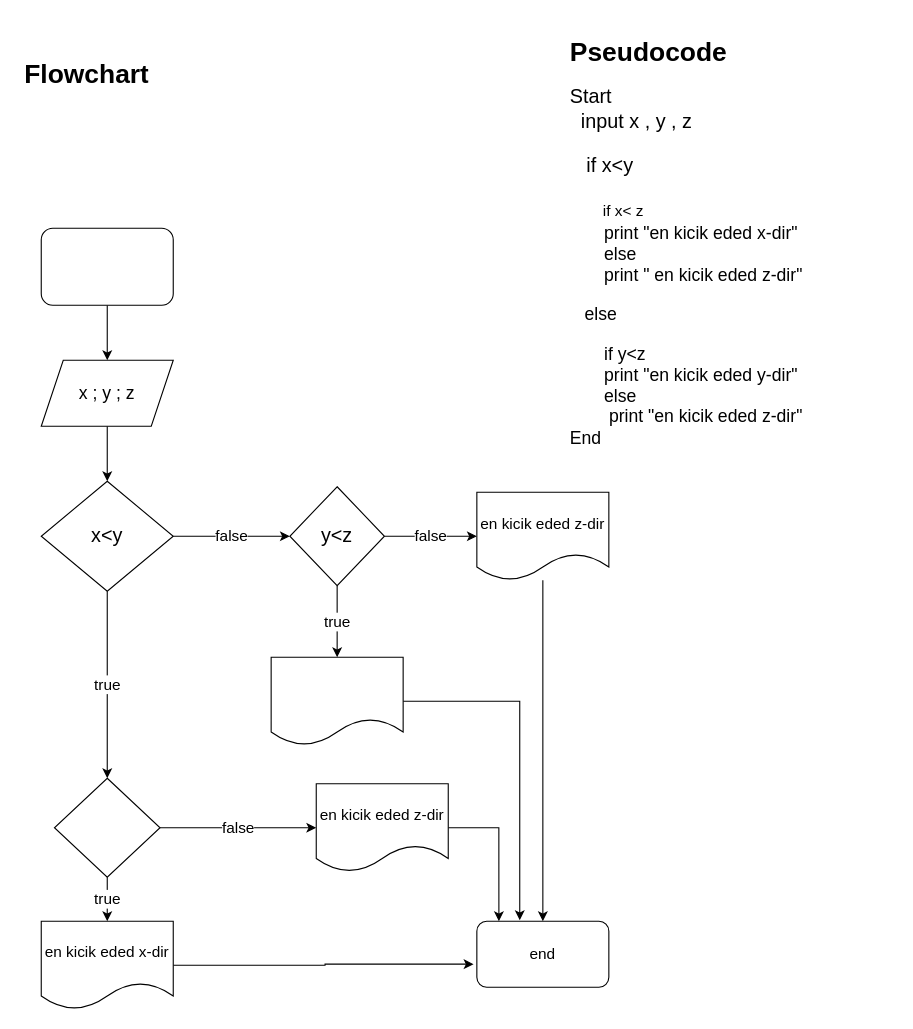
Some shapes in this 913 by 1029 pixel diagram are drawn without their labels. The shapes that lost their labels are listed below. From the top down, each one's centre as x and y in pixels, then its label:
At point 106,266: "start".
At point 336,700: "en kicik eded y-dir".
At point 106,827: "x<z".
